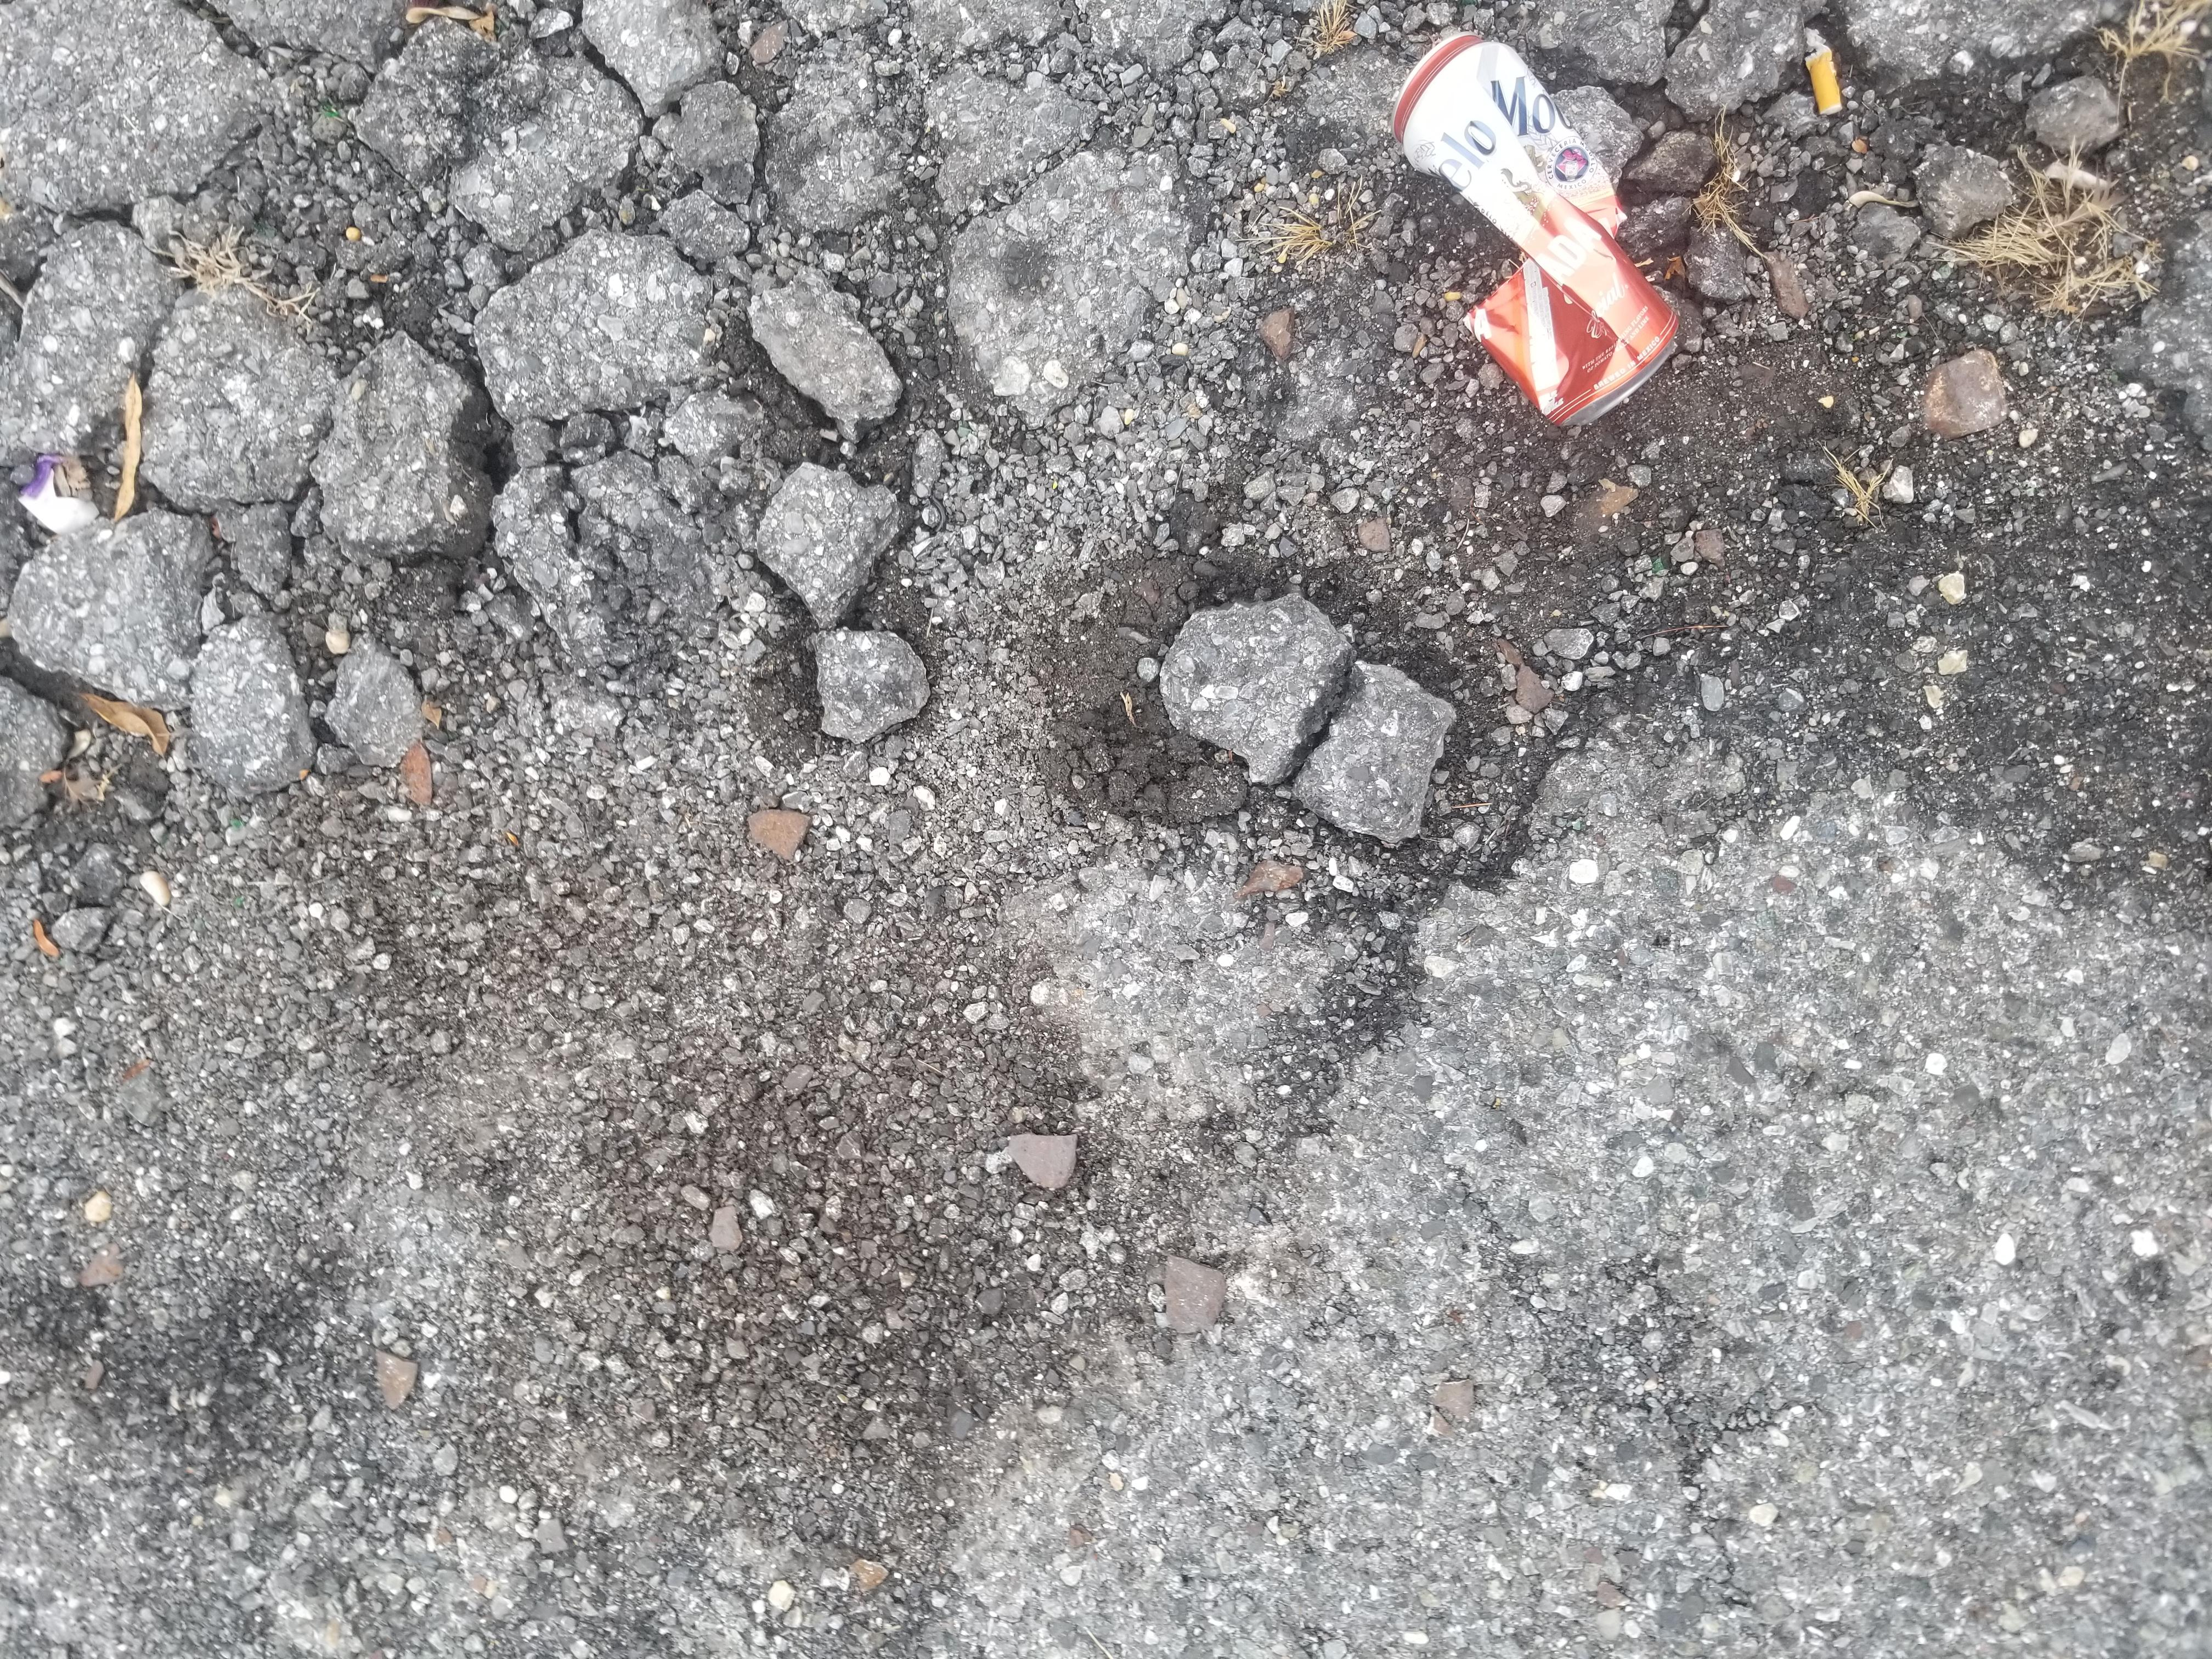alligator-crack: (1049, 0, 2212, 863)
